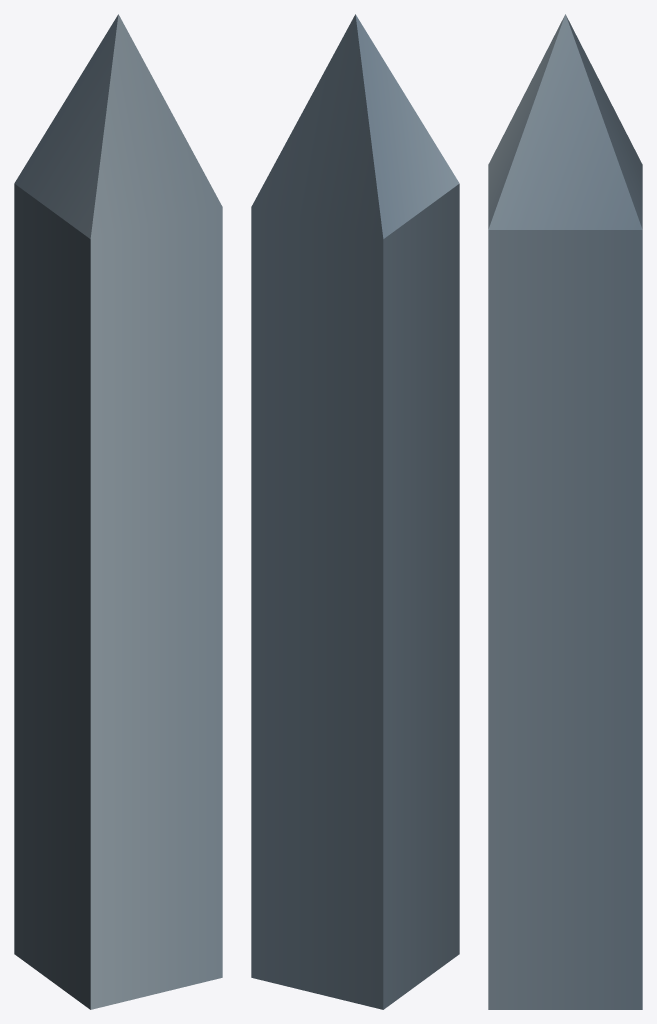
Rendered from custom model.glb.
3 renders of one model, left to right at view 1: azimuth 30°, elevation 25°; view 2: azimuth 150°, elevation 25°; view 3: azimuth 270°, elevation 25°, orthographic.
Parts seen in each view (by area): view 1: Cube; view 2: Cube; view 3: Cube.
Part boxes in pixels (x1,y1,x2,y2): Cube: (14, 14, 222, 1009); Cube: (251, 14, 459, 1009); Cube: (488, 14, 642, 1009).
Size of the model in its own units: 0.4 by 2.75 by 0.4.
1 material, 1 textured.
